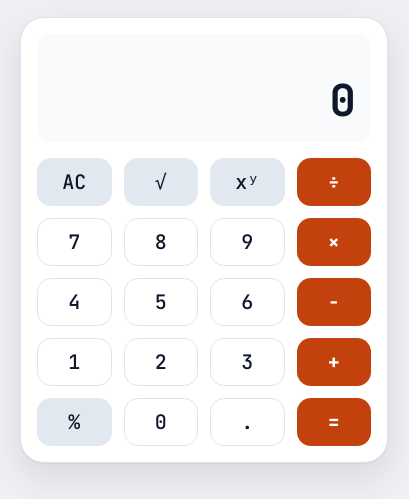
Test: Calculator › disables the keypad while a calculation is in flight
This screenshot has width=409, height=499.
What coordinates should you click on to do the following:
click the button "6"
I would click on:
 (247, 302)
Its box is [210,278,284,326].
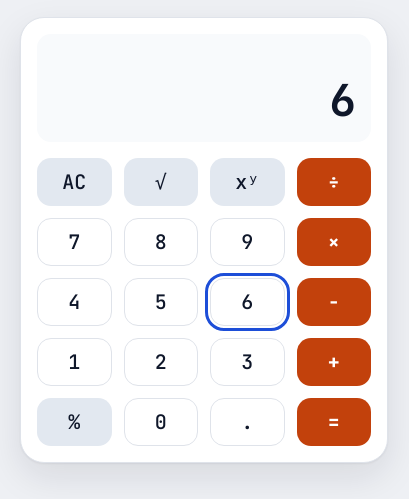
What coordinates should you click on to do the following:
click the button named "Add"
I would click on:
 (334, 362)
Its box is [296,338,371,386].
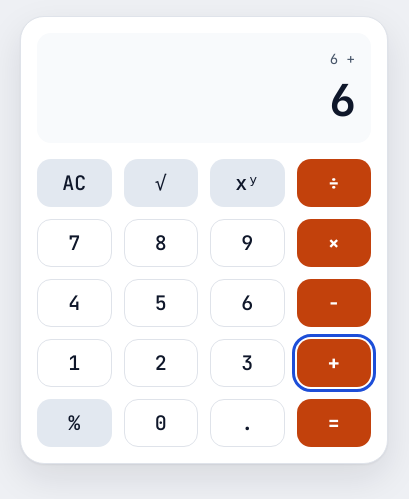
What coordinates should you click on to do the following:
click the button "1"
I would click on:
 (74, 363)
Its box is [37,339,112,387].
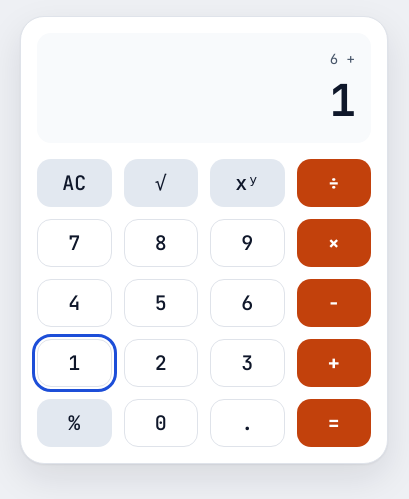
What coordinates should you click on to do the following:
click the button named "Equals"
I would click on:
 (334, 423)
Its box is [296,399,371,447].
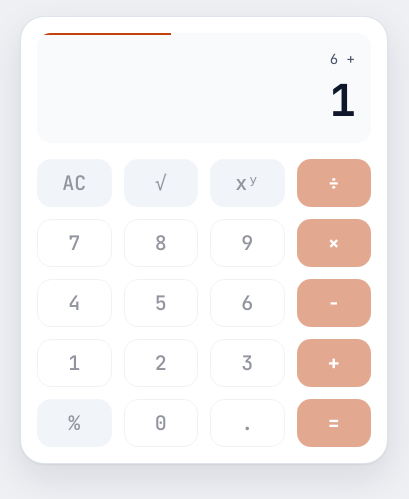
Expected: the button "1" is disabled, [37,339,112,387]
Expected: the progress indicator named "Calculating" is shown, [37,33,171,35]
